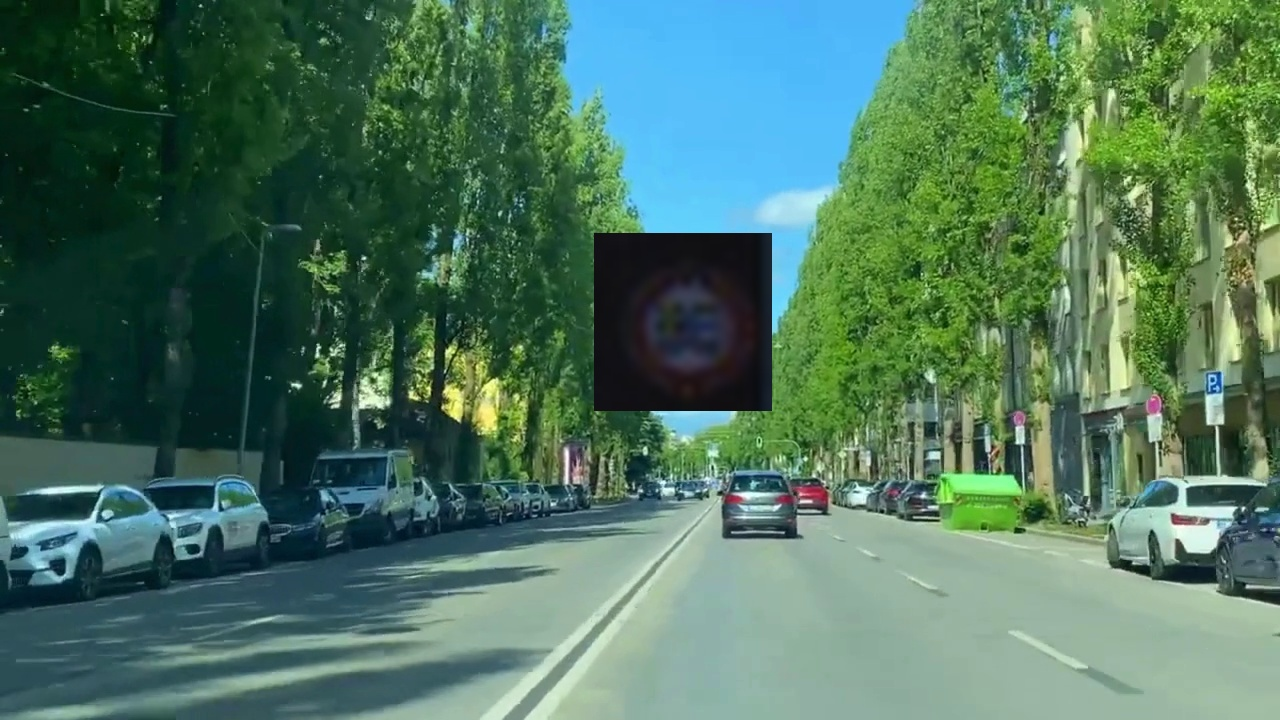Speed 80: (594, 233, 772, 411)
